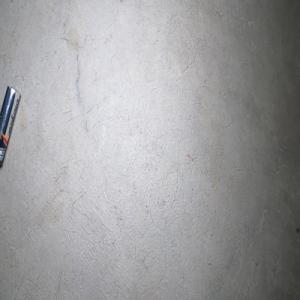Battery: (0, 85, 21, 166)
